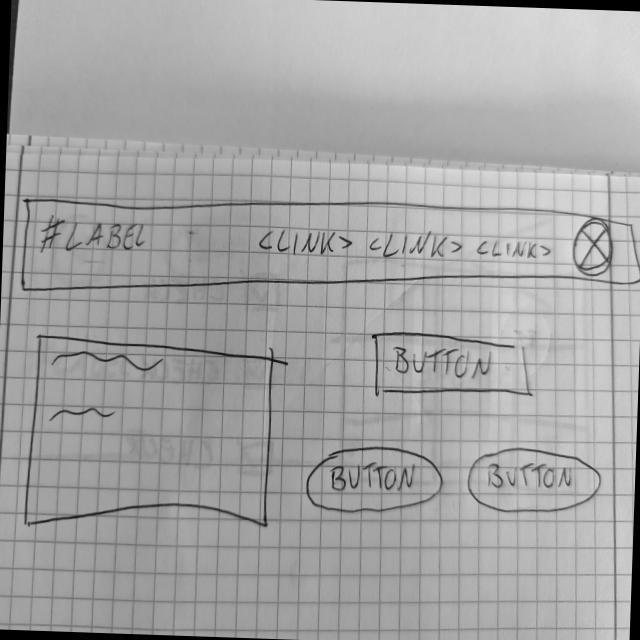button: (371, 329, 533, 401), (306, 444, 447, 517), (465, 445, 604, 518)
container: (19, 185, 640, 316)
image: (571, 218, 616, 278)
label: (39, 213, 152, 259)
link: (369, 227, 468, 263), (256, 226, 354, 260), (476, 235, 554, 262)
textarea: (21, 331, 279, 538)
